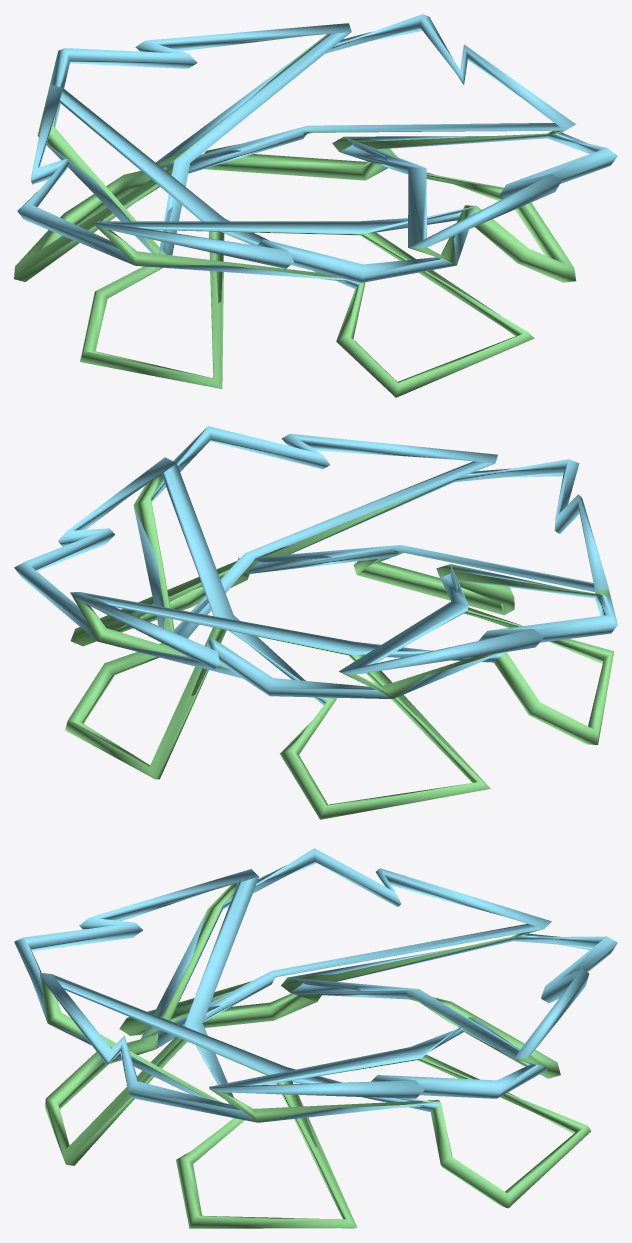
File: MapD.glb
3 views of the same model, one above another, from view 1: azimuth 30°, elevation 25°; view 2: azimuth 150°, elevation 25°; view 3: azimuth 270°, elevation 25° (orthographic). The views are drawn at different scales.
Parts seen in each view (by area): view 1: RegularMap_D; view 2: RegularMap_D; view 3: RegularMap_D.
Part boxes in pixels (x1,y1,x2,y2): RegularMap_D: (14,14,617,397); RegularMap_D: (14,426,617,819); RegularMap_D: (14,848,617,1228).
Size of the model in its own units: 4.75 by 1.35 by 4.82.
